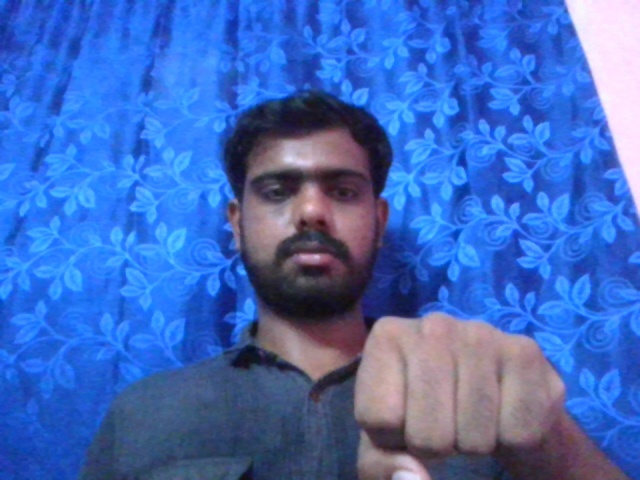Yes: (354, 310, 564, 478)
